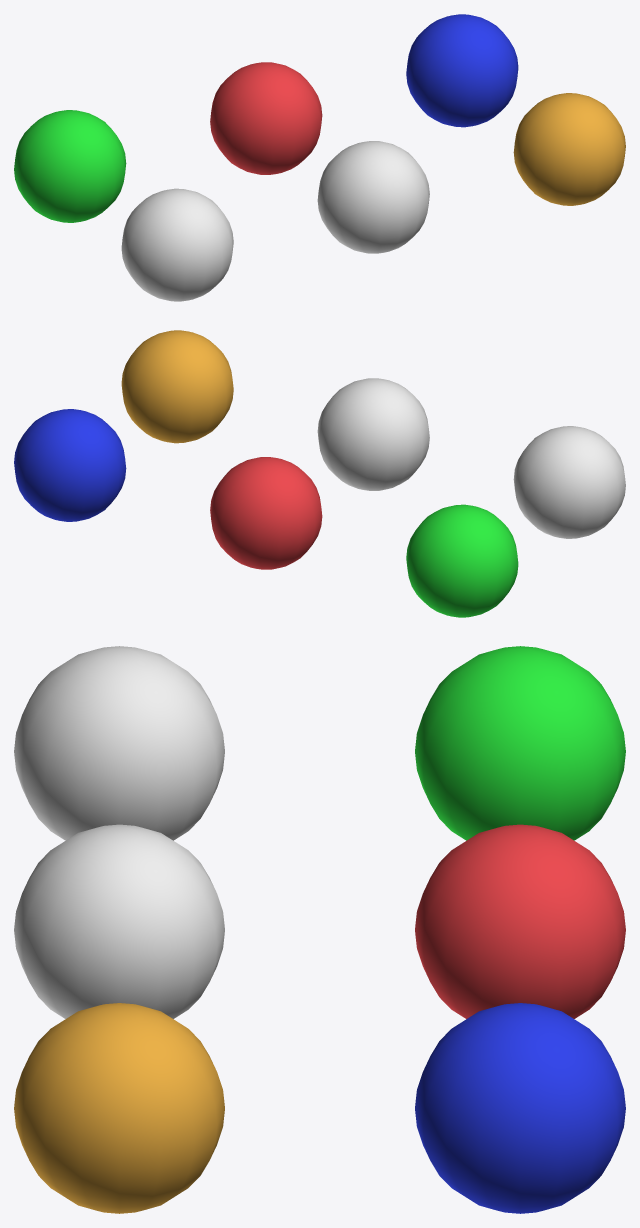
File: pbr.glb
3 renders of one model, top to bottom at view 1: azimuth 30°, elevation 25°; view 2: azimuth 150°, elevation 25°; view 3: azimuth 270°, elevation 25°, orthographic. The views are drawn at different scales.
Visible parts, largest first — view 1: Sphere.002, Sphere.003, Sphere.001, Sphere.004, Sphere, Sphere.005; view 2: Sphere, Sphere.005, Sphere.001, Sphere.004, Sphere.002, Sphere.003; view 3: Sphere, Sphere.003, Sphere.001, Sphere.004, Sphere.002, Sphere.005.
Boxes of the visible parts, x1=… form: Sphere.002: x1=121, y1=188, x2=233, y2=301; Sphere.003: x1=406, y1=14, x2=518, y2=127; Sphere.001: x1=317, y1=141, x2=429, y2=253; Sphere.004: x1=210, y1=62, x2=322, y2=174; Sphere: x1=513, y1=93, x2=625, y2=205; Sphere.005: x1=14, y1=110, x2=126, y2=222; Sphere: x1=121, y1=330, x2=233, y2=443; Sphere.005: x1=406, y1=504, x2=518, y2=617; Sphere.001: x1=317, y1=378, x2=429, y2=490; Sphere.004: x1=210, y1=457, x2=322, y2=569; Sphere.002: x1=513, y1=426, x2=625, y2=538; Sphere.003: x1=14, y1=409, x2=126, y2=521; Sphere: x1=14, y1=1003, x2=224, y2=1213; Sphere.003: x1=415, y1=1003, x2=625, y2=1213; Sphere.001: x1=14, y1=824, x2=224, y2=1018; Sphere.004: x1=415, y1=824, x2=625, y2=1018; Sphere.002: x1=14, y1=646, x2=224, y2=840; Sphere.005: x1=415, y1=646, x2=625, y2=840.
Bounding box in the file's own units: 5 × 1 × 2.9.
